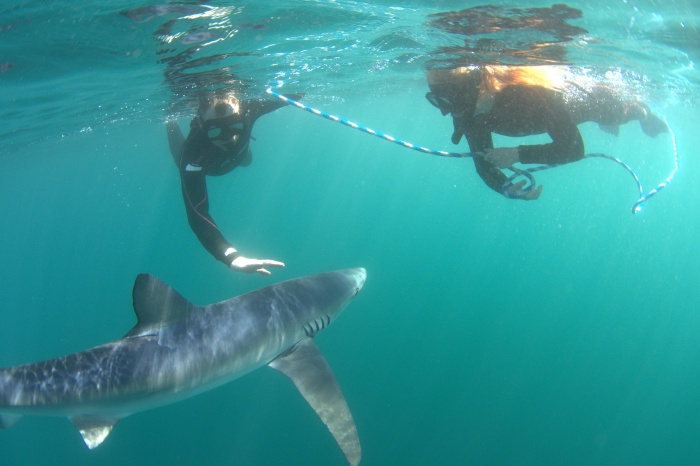Azul: (6, 258, 409, 466)
